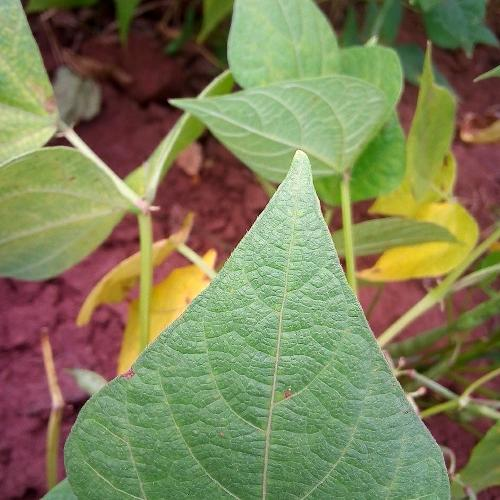embun tepung: (96, 190, 403, 472)
